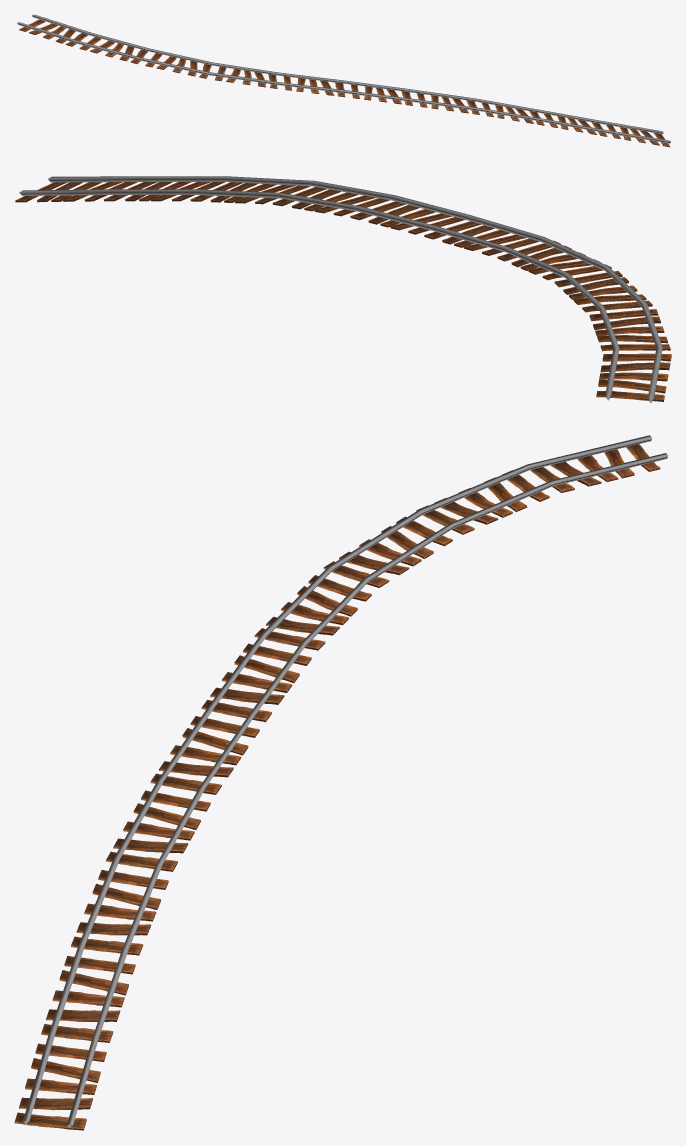
Rendered from SWORDLIGHT20_TRACK2.fbx.
3 renders of one model, top to bottom at view 1: azimuth 30°, elevation 25°; view 2: azimuth 150°, elevation 25°; view 3: azimuth 270°, elevation 25°, orthographic. The views are drawn at different scales.
Parts seen in each view (by area): view 1: SWORDLIGHT20_TRACK2; view 2: SWORDLIGHT20_TRACK2; view 3: SWORDLIGHT20_TRACK2.
Part boxes in pixels (box(x1,y1,x2,y2)): SWORDLIGHT20_TRACK2: box(17, 14, 670, 147); SWORDLIGHT20_TRACK2: box(15, 176, 671, 403); SWORDLIGHT20_TRACK2: box(14, 435, 668, 1130).
Bounding box in the file's own units: 253107 × 59188 × 150823.
2 materials, 2 textured.
